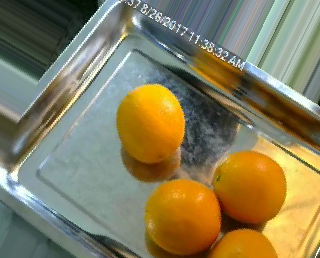Orange: (144, 176, 222, 253), (117, 83, 187, 164), (213, 149, 288, 224)
